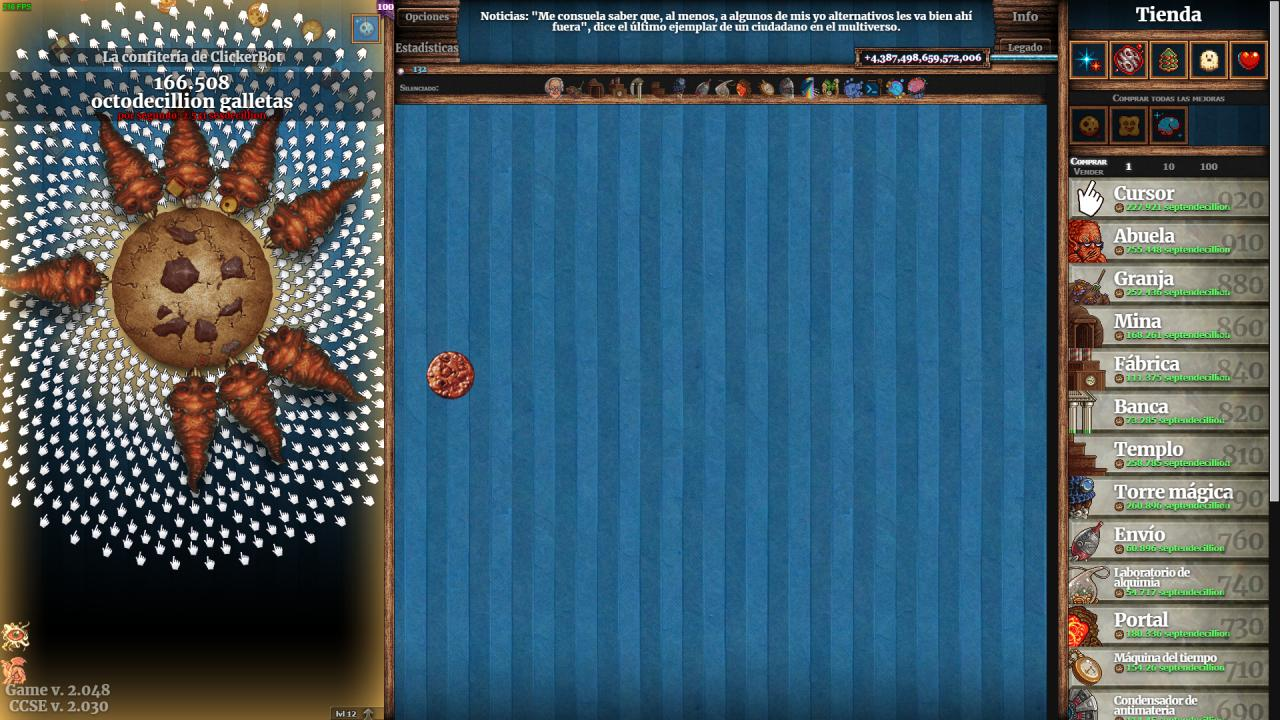RedCookie: (425, 350, 476, 401)
